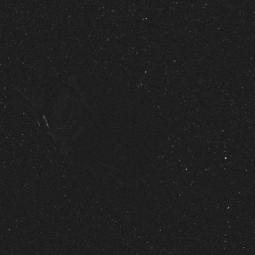proba_2: (29, 51, 164, 161)
